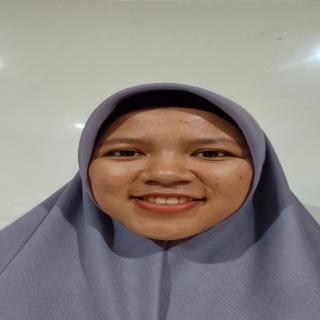Senang: (82, 93, 259, 246)
